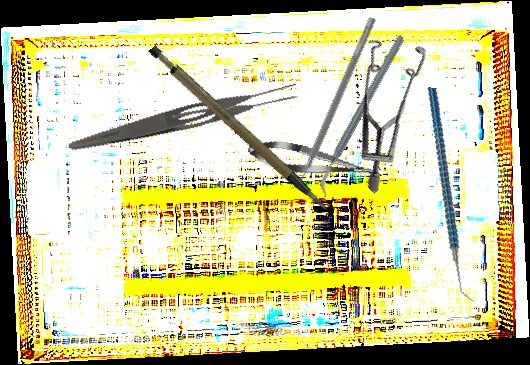Chopper: (273, 33, 451, 198), (388, 86, 517, 304)
Dressing Forceps: (66, 77, 301, 163)
Micro Scissor: (245, 135, 384, 189)
Scalpel Handle: (145, 24, 329, 236)
Spatula Surgical: (287, 13, 377, 195)
Speculum: (295, 17, 471, 195)
